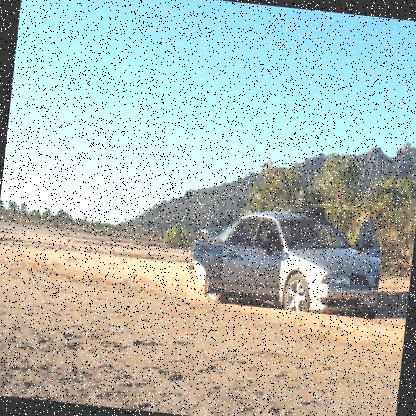Car: (185, 194, 386, 320)
